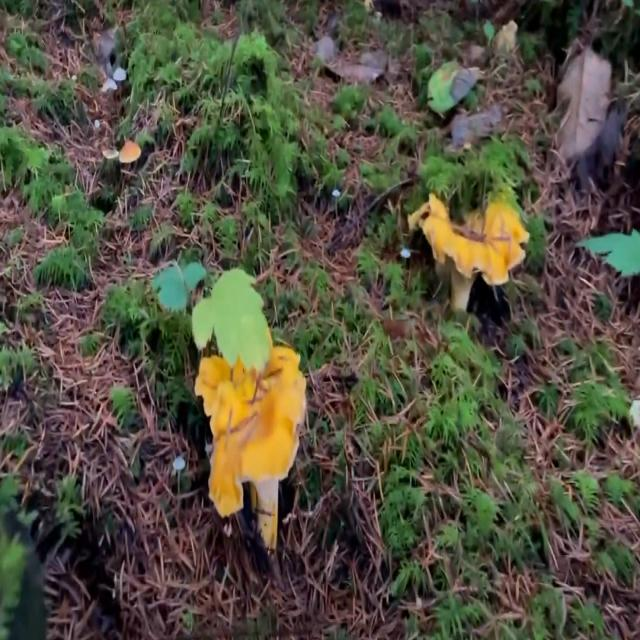chanterelle: (194, 345, 307, 552), (412, 195, 529, 313)
